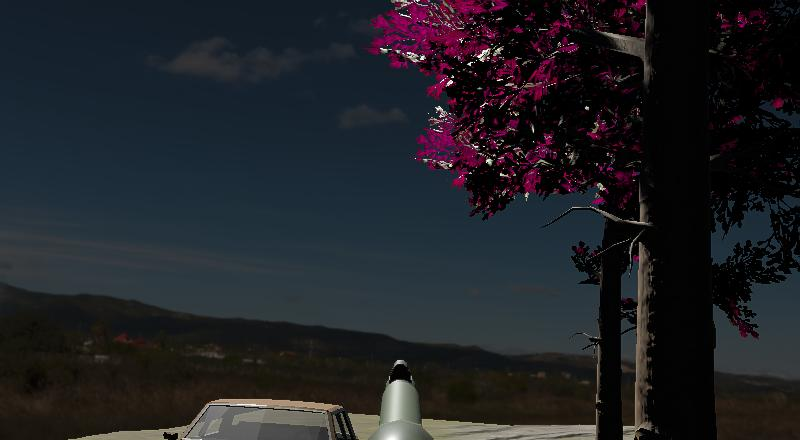car: (135, 393, 391, 440)
